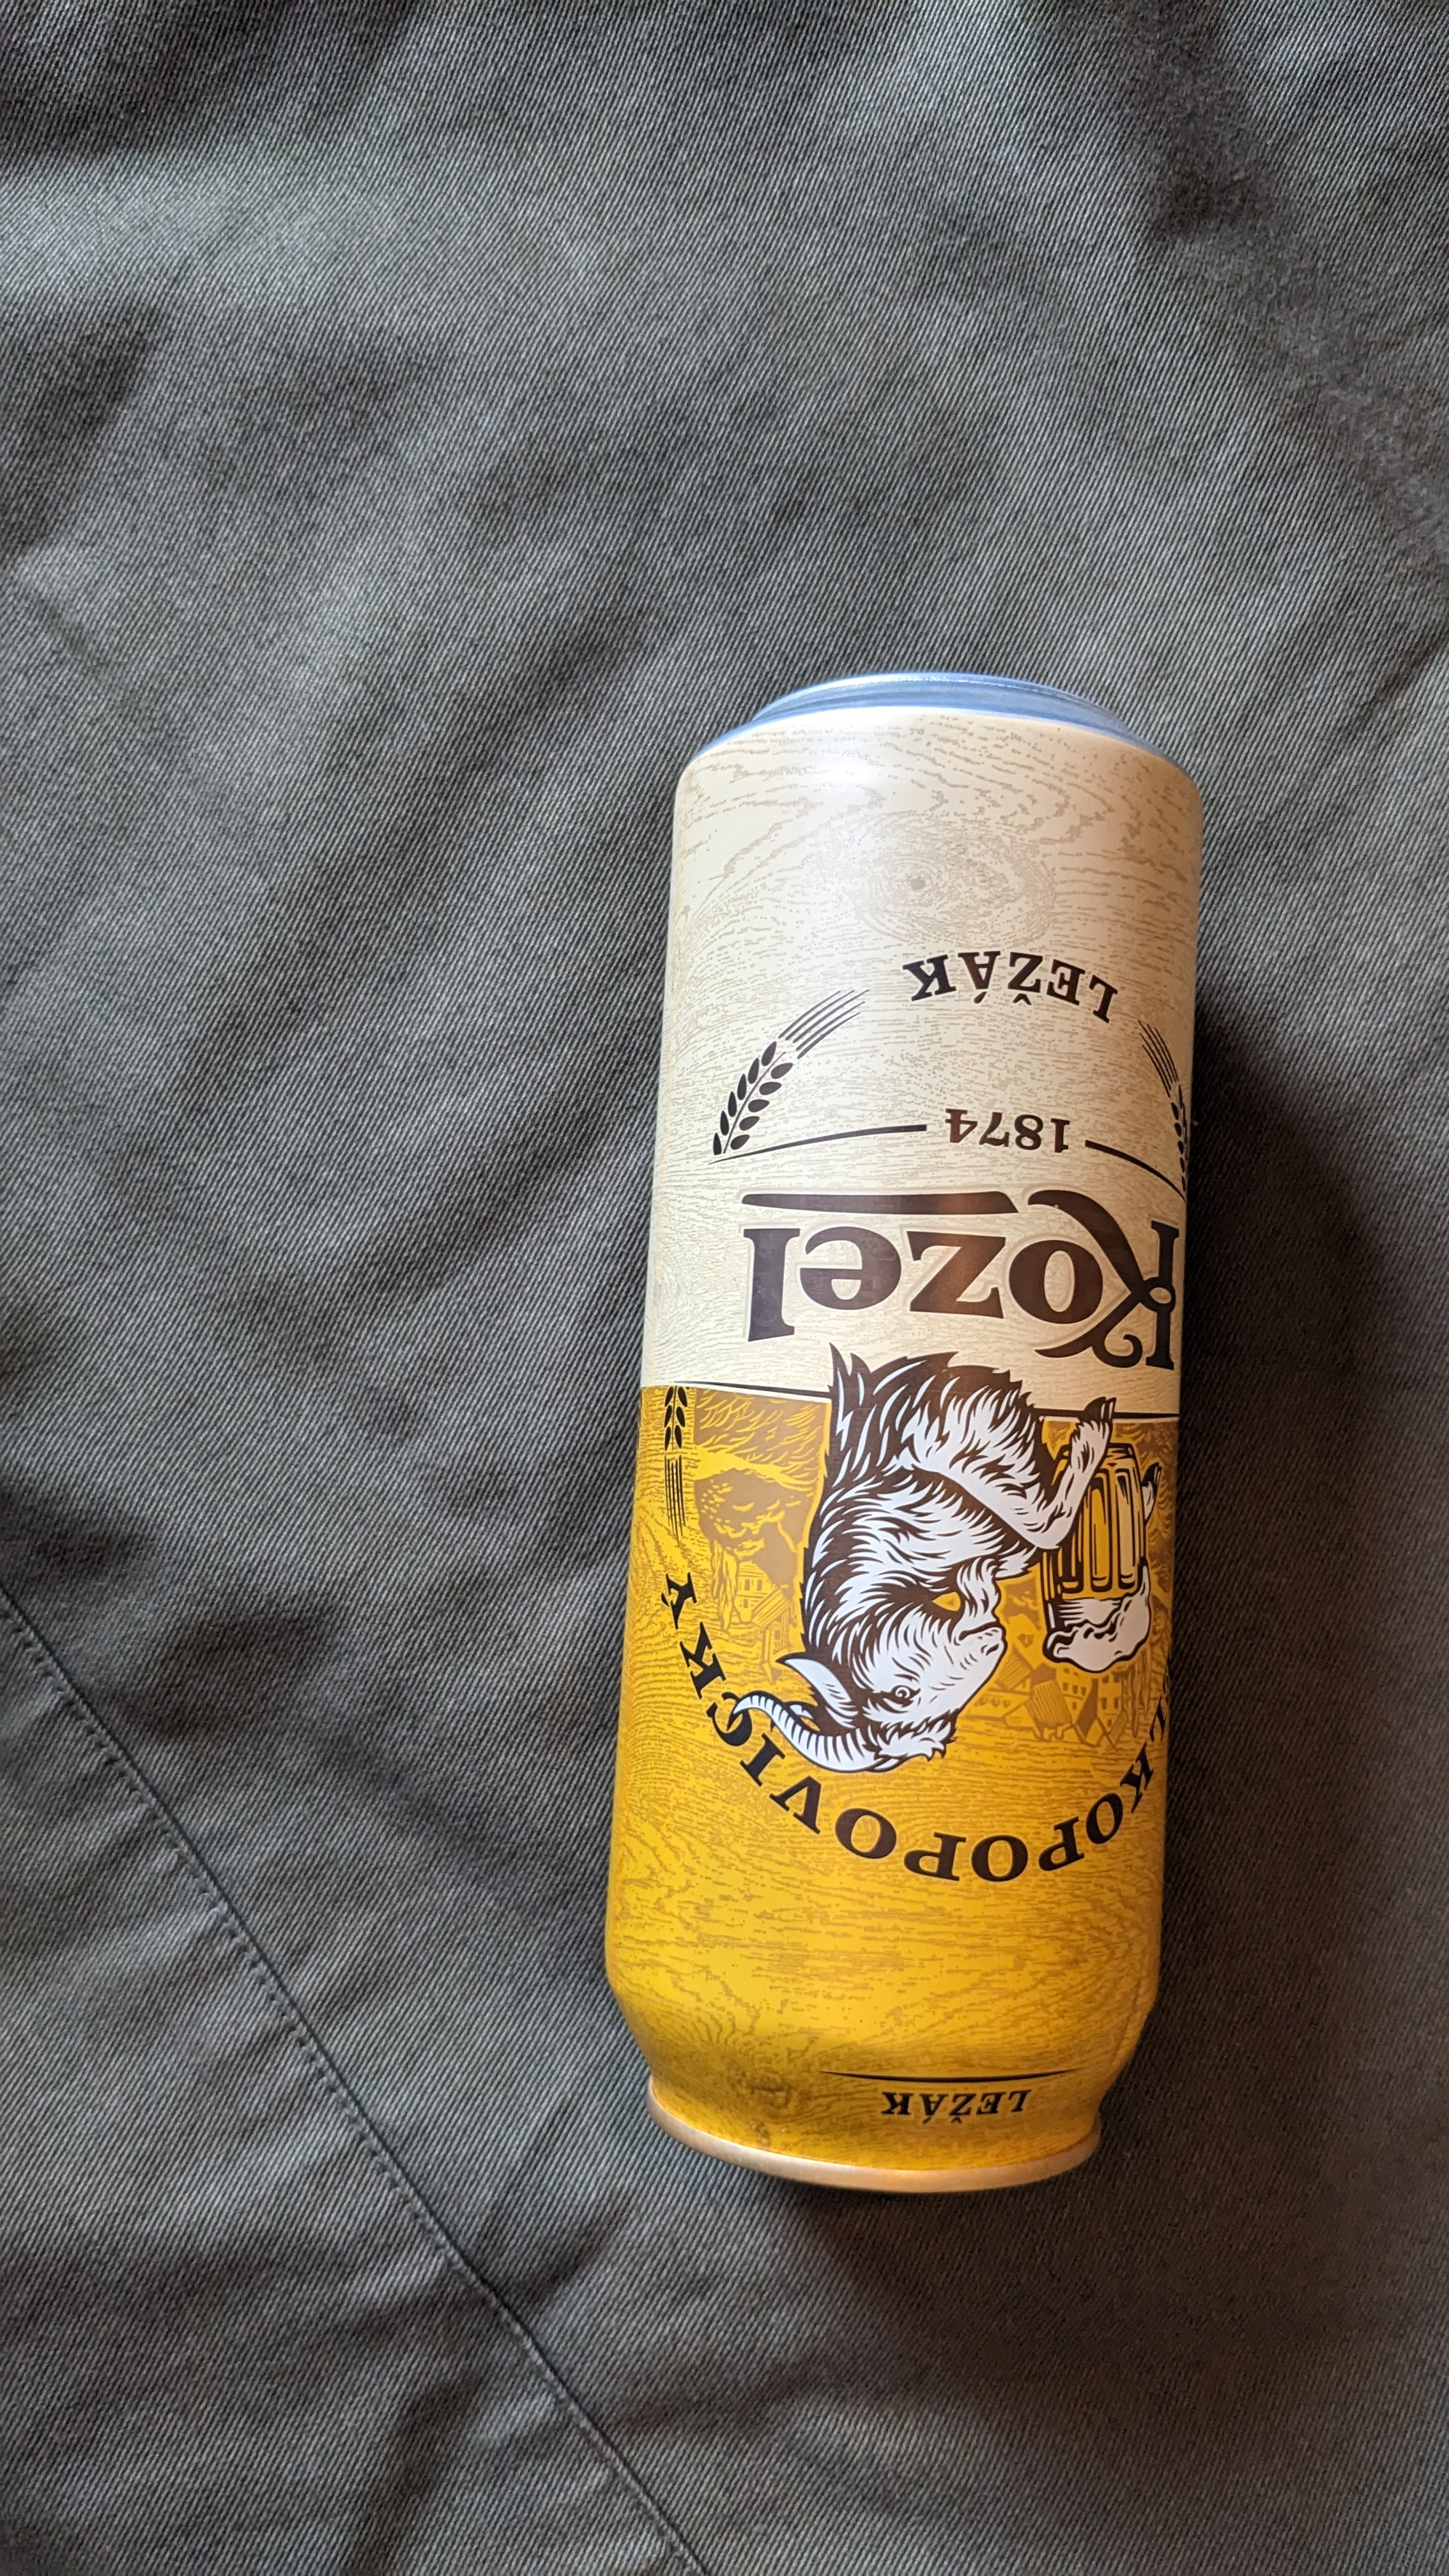kozel: (616, 630, 1247, 2238)
